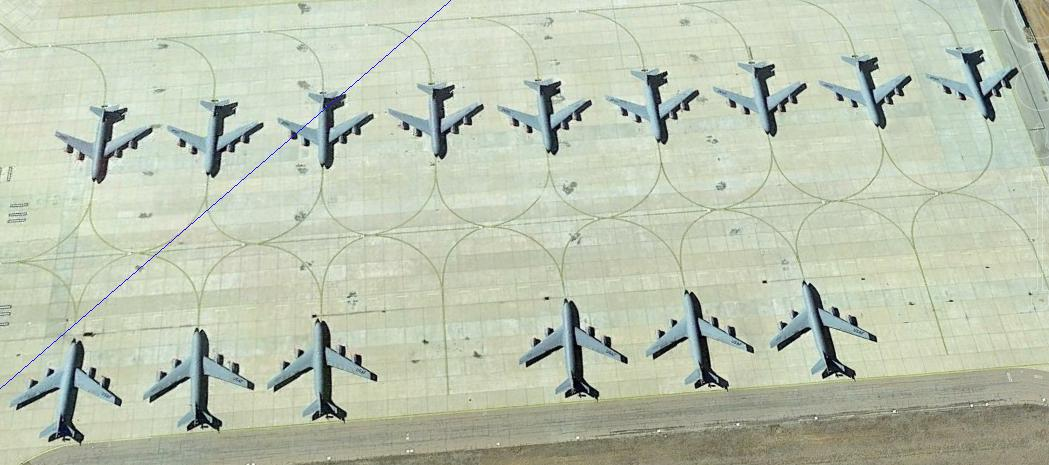KC-135: (765, 281, 882, 385), (268, 319, 376, 425), (148, 326, 251, 434), (641, 292, 751, 393), (516, 300, 629, 398), (16, 339, 119, 444), (51, 102, 155, 187), (163, 98, 268, 178), (382, 82, 484, 162), (274, 90, 372, 170), (601, 66, 703, 142), (713, 60, 810, 139), (926, 45, 1019, 125), (497, 77, 592, 154), (815, 55, 912, 129)
